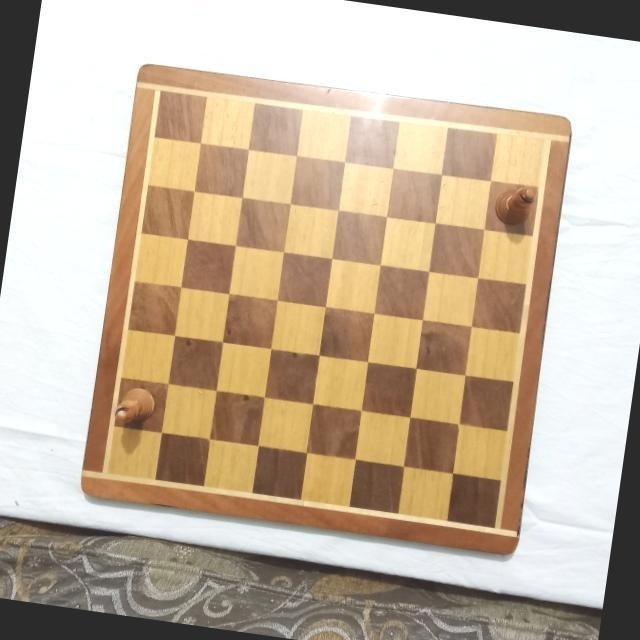white-bishop: (492, 180, 540, 228), (110, 383, 157, 429)
